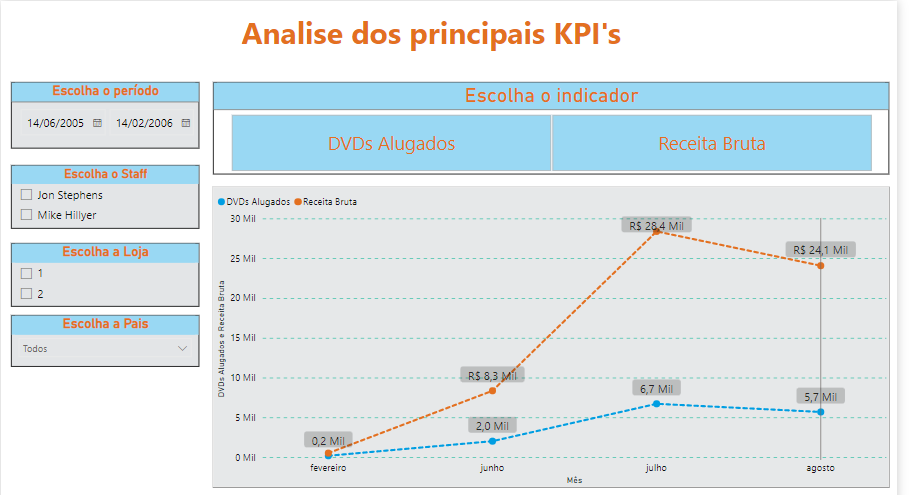

What the dashboard file says about the page in this screenshot:
{"tool":"powerbi","page":{"name":"KPI's","canvas":[1280,720],"ordinal":0},"visuals":[{"type":"slicer","title":"Escolha o período","fields":{"Values":["public rental_serving.rental_date"]},"box":[14.1,116,268.8,94.8],"z":0},{"type":"slicer","title":"Escolha a Loja","fields":{"Values":["public staff_serving.store_id"]},"box":[14.1,345.1,268.8,90.5],"z":1000},{"type":"lineChart","title":"Analise dos KPI''s por período","fields":{"Y":["public rental_serving.qntd_alugueis","public rental_serving.receita"],"Category":["public rental_serving.rental_date.Variation.Hierarquia de datas.Mês","public rental_serving.rental_date.Variation.Hierarquia de datas.Dia"]},"box":[302.7,265.9,966.1,428.6],"z":2000},{"type":"slicer","title":"Escolha o indicador","fields":{"Values":["kpi.kpi"]},"box":[302.7,116,966.1,131.6],"z":3000},{"type":"slicer","title":"Escolha o Staff","fields":{"Values":["public staff_serving.staff_name"]},"box":[14.1,234.8,268.8,90.5],"z":4000},{"type":"slicer","title":"Escolha a Pais","fields":{"Values":["public customer_serving.country"]},"box":[14.1,448.4,268.8,73.6],"z":5000},{"type":"textbox","box":[338.1,9.9,602.6,72.1],"z":6000}]}

Visuals, with their boxes on the page's 1280x720 design canvas (x1, y1, x2, y2). These are canvas units, not pixel positions in the 913x495 screenshot, which may show the page scaled, cropped or inside an application window:
"Escolha o período" slicer: (x1=14, y1=116, x2=283, y2=211)
"Escolha a Loja" slicer: (x1=14, y1=345, x2=283, y2=436)
"Analise dos KPI''s por período" lineChart: (x1=303, y1=266, x2=1269, y2=694)
"Escolha o indicador" slicer: (x1=303, y1=116, x2=1269, y2=248)
"Escolha o Staff" slicer: (x1=14, y1=235, x2=283, y2=325)
"Escolha a Pais" slicer: (x1=14, y1=448, x2=283, y2=522)
textbox: (x1=338, y1=10, x2=941, y2=82)
